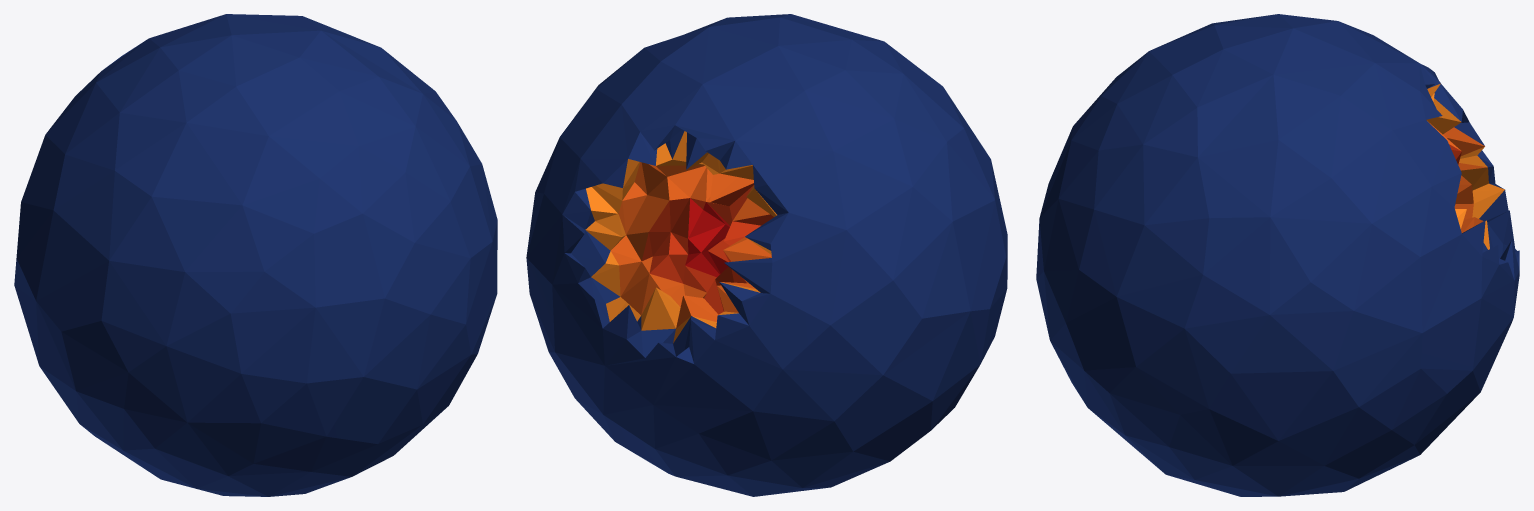
The model's file is Planet4.glb.
3 views of the same model, side by side, from view 1: azimuth 30°, elevation 25°; view 2: azimuth 150°, elevation 25°; view 3: azimuth 270°, elevation 25° (orthographic).
Parts seen in each view (by area): view 1: Planet_04; view 2: Planet_04; view 3: Planet_04.
Part boxes in pixels (x1=…): Planet_04: x1=14, y1=14, x2=497, y2=496; Planet_04: x1=526, y1=14, x2=1007, y2=496; Planet_04: x1=1036, y1=14, x2=1519, y2=496.
Bounding box in the file's own units: 2.6 × 2.6 × 2.59.
